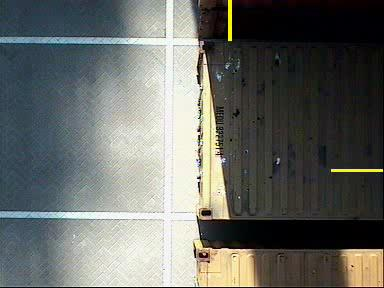groundmarker_2: (142, 36, 195, 66), (138, 191, 191, 221)
